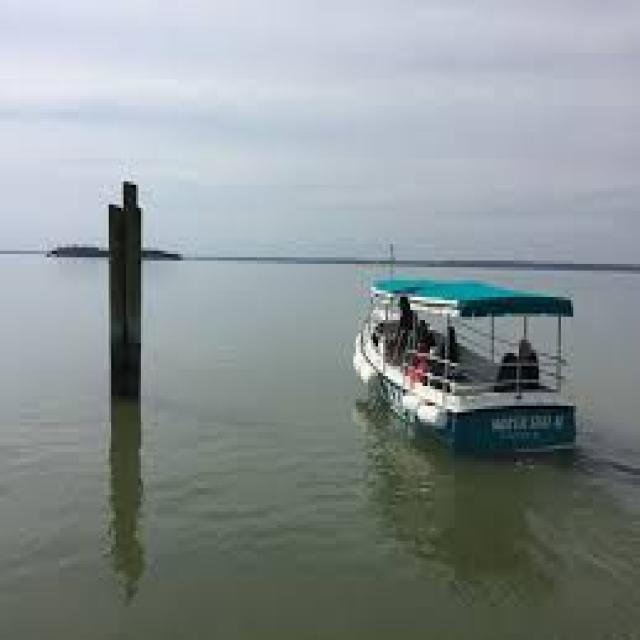houseboat: (350, 257, 584, 453)
